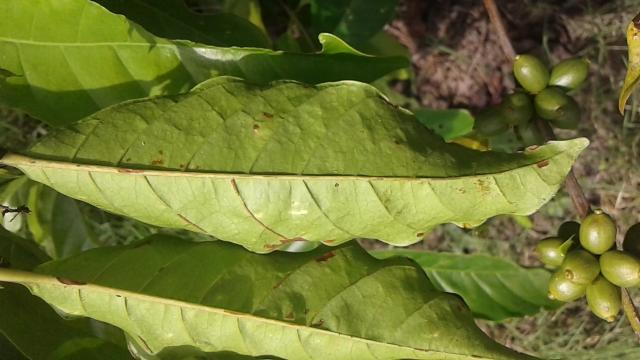rust_level_1: (16, 72, 595, 256)
